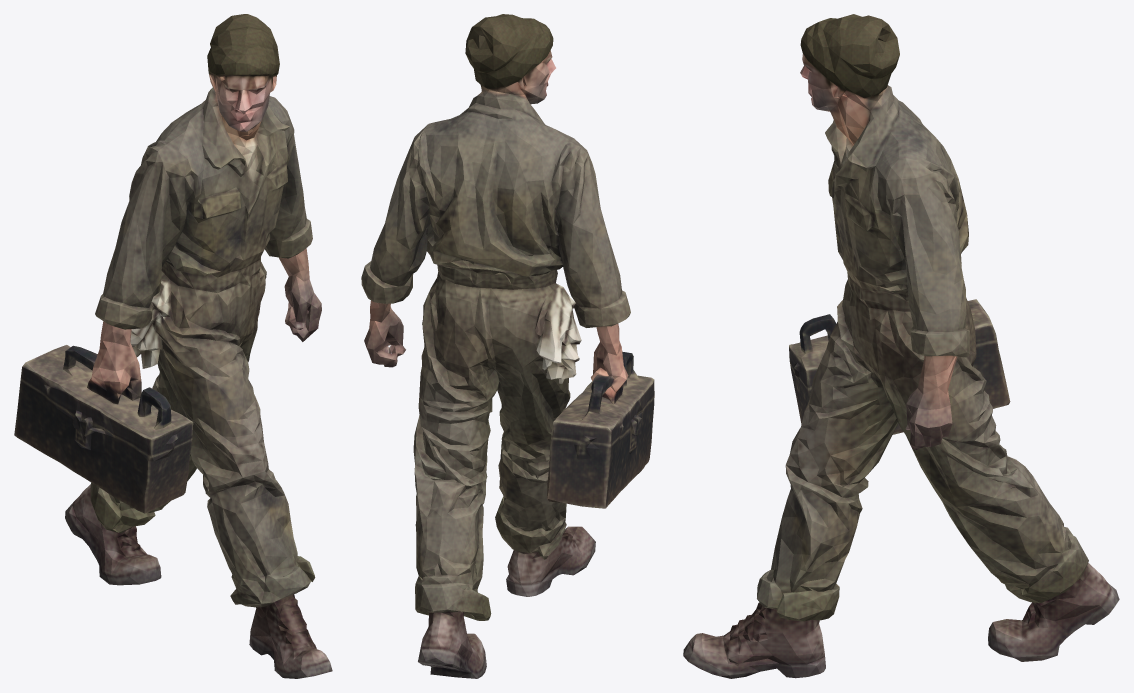
The model's file is walk_us_mech_b.obj.
3 renders of one model, left to right at view 1: azimuth 30°, elevation 25°; view 2: azimuth 150°, elevation 25°; view 3: azimuth 270°, elevation 25°, orthographic. The views are drawn at different scales.
Visible parts, largest first — view 1: walk_us_mech_b; view 2: walk_us_mech_b; view 3: walk_us_mech_b.
Boxes of the visible parts, x1,y1,x2,y2 form: walk_us_mech_b: [14, 14, 332, 678]; walk_us_mech_b: [361, 14, 654, 678]; walk_us_mech_b: [683, 14, 1119, 678].
Bounding box in the file's own units: 0.8495 × 1.8 × 1.09.
1 material, 1 textured.
